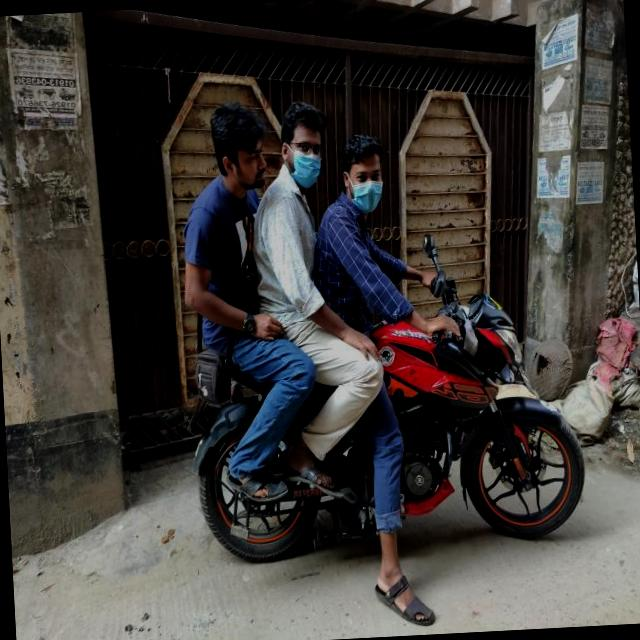motorcycle: (178, 270, 602, 572)
person: (299, 139, 406, 426), (233, 96, 347, 364), (174, 90, 282, 372)
rider_region: (162, 86, 592, 572)
